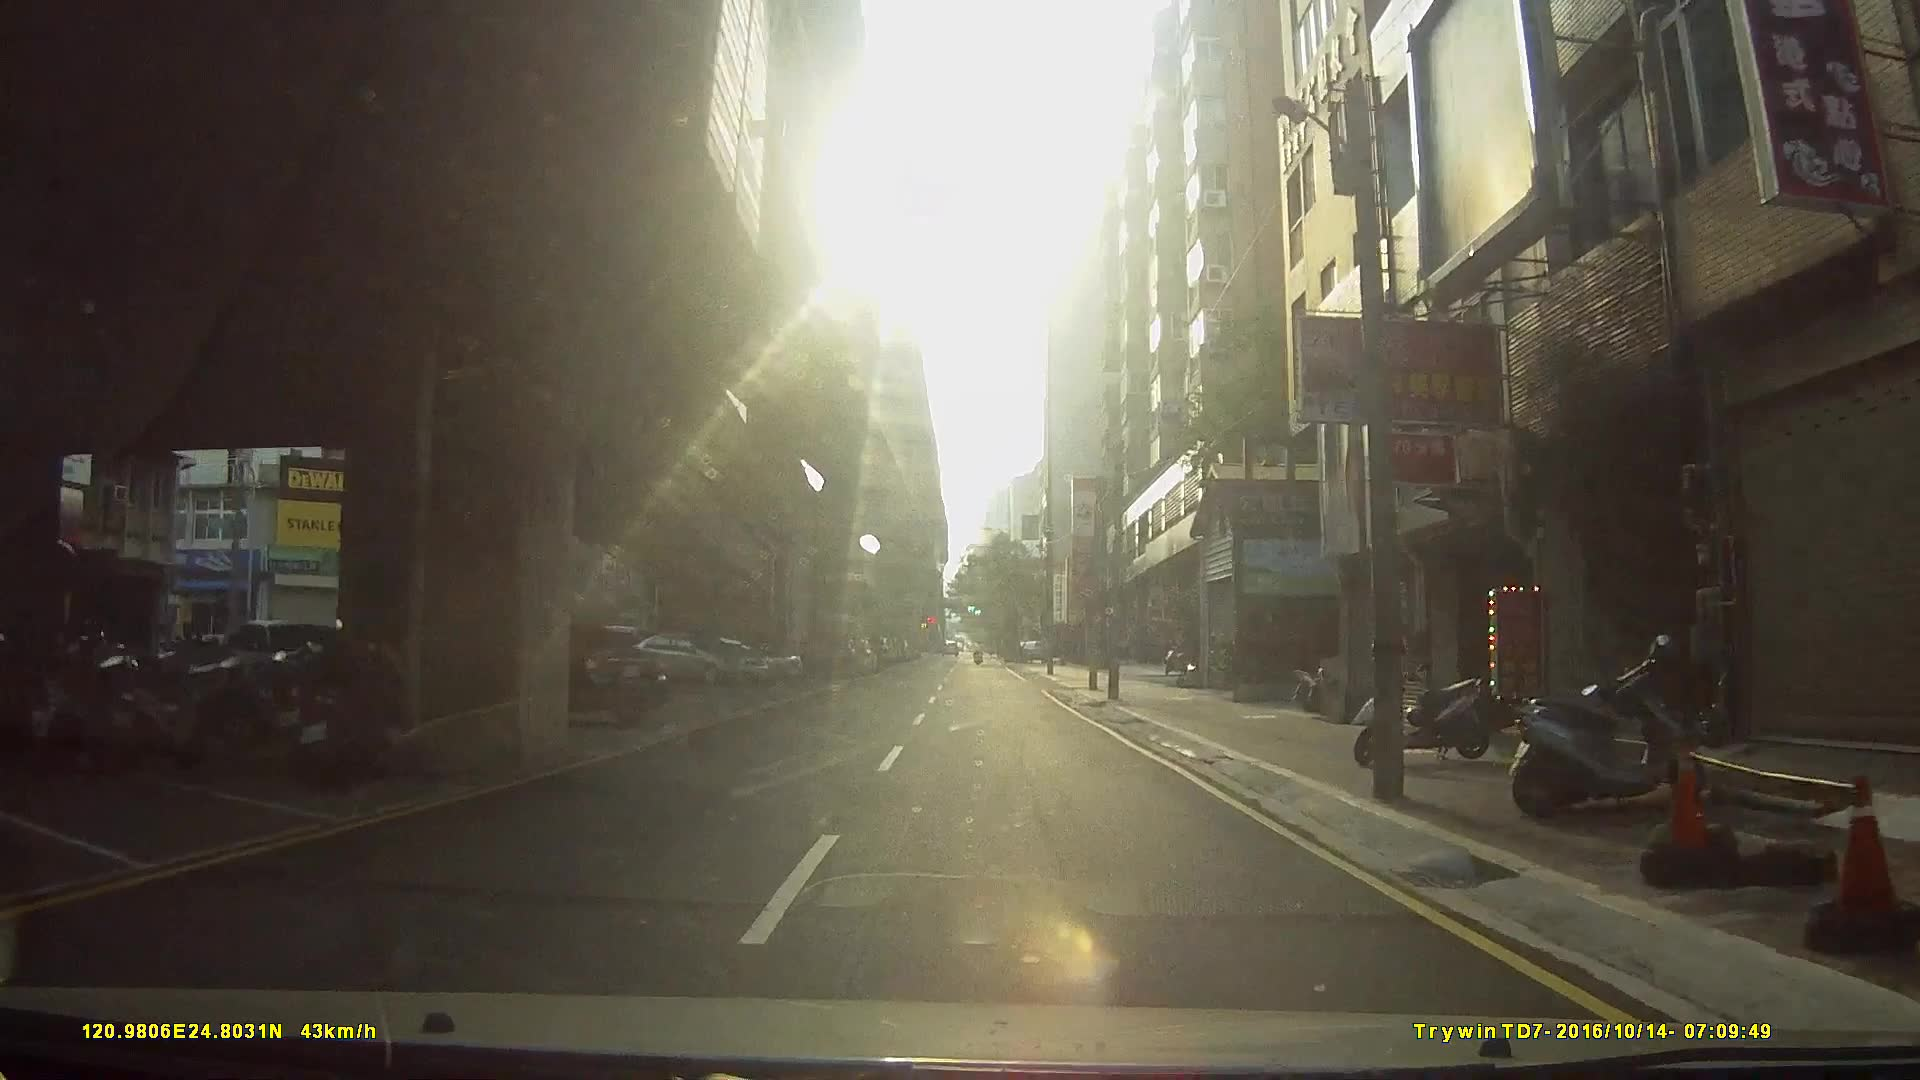vehicle: (489, 622, 669, 721), (625, 629, 771, 686)
